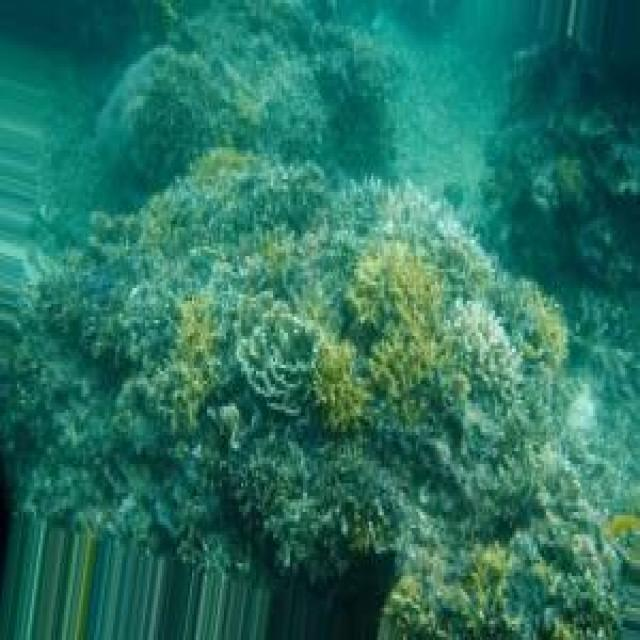healthy coral: (355, 242, 442, 413), (168, 294, 229, 432), (309, 338, 370, 434), (524, 283, 566, 368), (460, 542, 506, 607)
